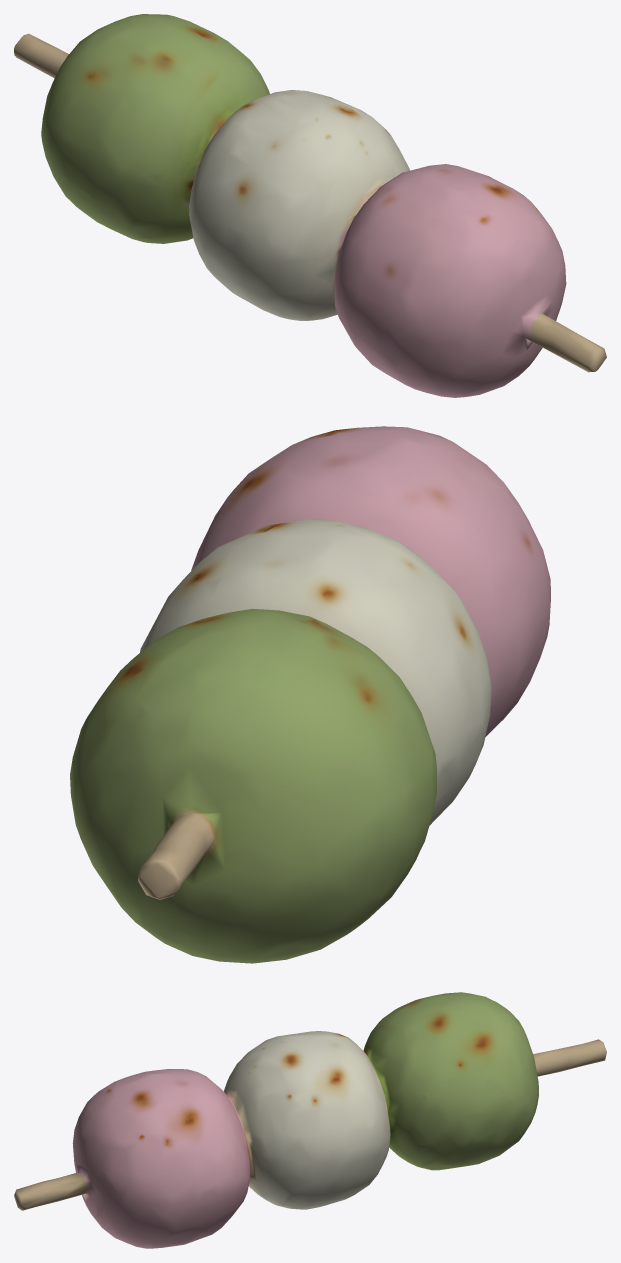
The model's file is JP_사물_s2_dessert_part_skewer_dango.glb.
3 views of the same model, one above another, from view 1: azimuth 30°, elevation 25°; view 2: azimuth 150°, elevation 25°; view 3: azimuth 270°, elevation 25° (orthographic). The views are drawn at different scales.
Parts seen in each view (by area): view 1: tripo_node_25db2dd3-d378-46e7-aa16-eecc5046a981; view 2: tripo_node_25db2dd3-d378-46e7-aa16-eecc5046a981; view 3: tripo_node_25db2dd3-d378-46e7-aa16-eecc5046a981.
Boxes of the visible parts, bbox=[...] form: tripo_node_25db2dd3-d378-46e7-aa16-eecc5046a981: bbox=[14, 14, 606, 397]; tripo_node_25db2dd3-d378-46e7-aa16-eecc5046a981: bbox=[70, 426, 550, 963]; tripo_node_25db2dd3-d378-46e7-aa16-eecc5046a981: bbox=[14, 992, 606, 1248].
Bounding box in the file's own units: 0.4764 × 0.3642 × 1.
1 material, 1 textured.
